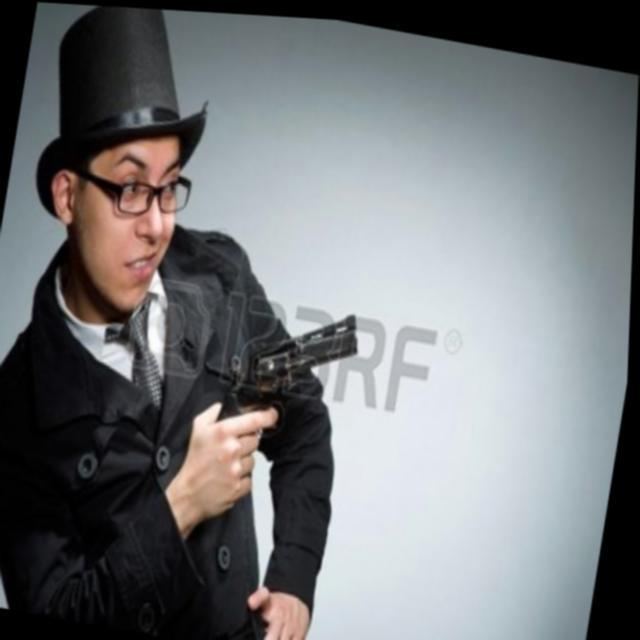weapon: (213, 282, 370, 456)
